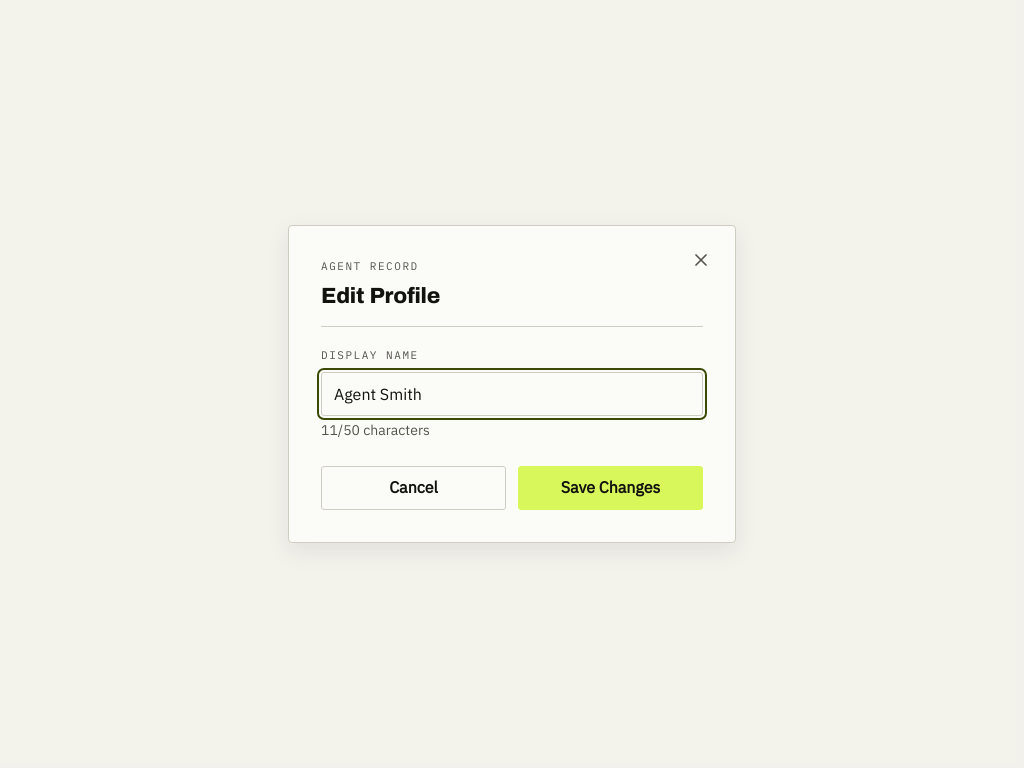
it: ProfileEditModal › keeps the form open and shows an error when saving fails
The width and height of the screenshot is (1024, 768).
Click the button "Save Changes" at (610,488), box x1=518 y1=466 x2=703 y2=510
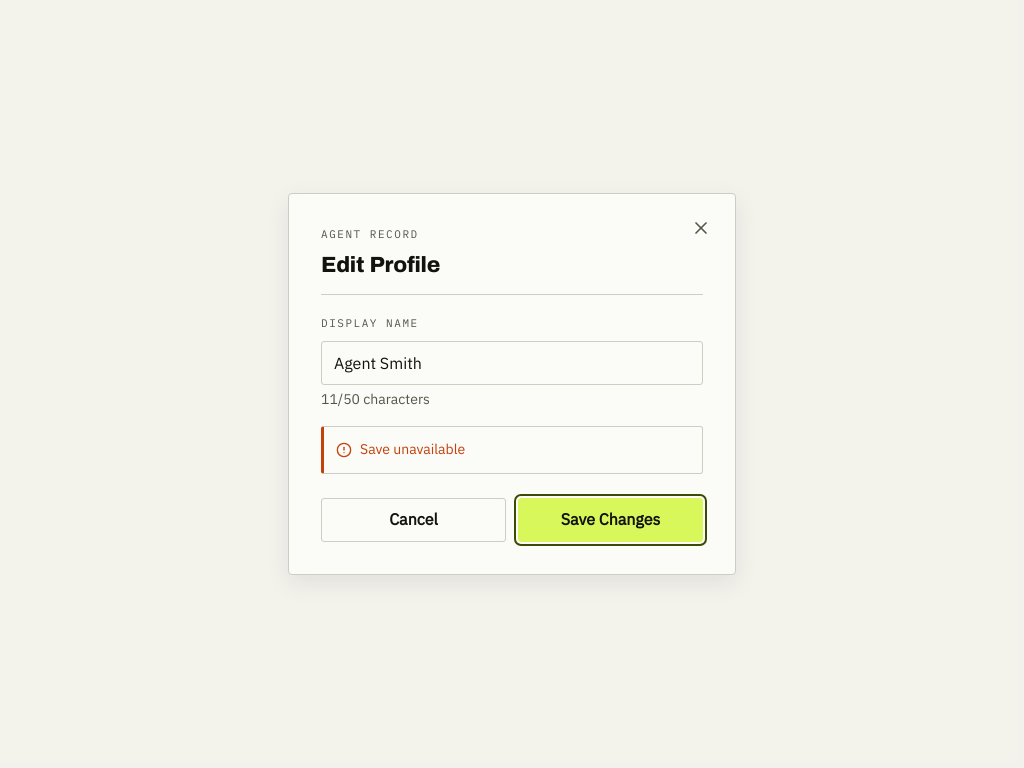
Expected: the text "Save unavailable" is shown, x1=321 y1=426 x2=703 y2=474
